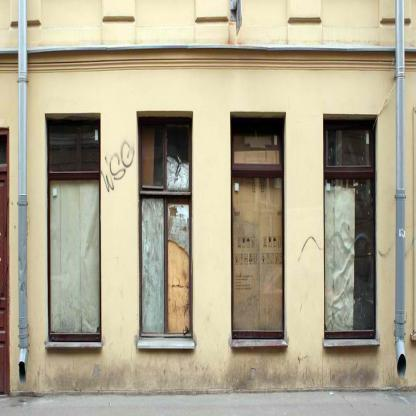Building Outline: (0, 1, 416, 397)
Dont: (229, 1, 242, 39)
Door: (0, 171, 7, 394)
Facade: (0, 0, 416, 393)
Floor Slab: (0, 44, 416, 66)
Ground Floor: (0, 65, 416, 395)
Window: (45, 112, 101, 343), (137, 110, 193, 341), (230, 111, 286, 341), (323, 113, 379, 342), (0, 134, 7, 164)
